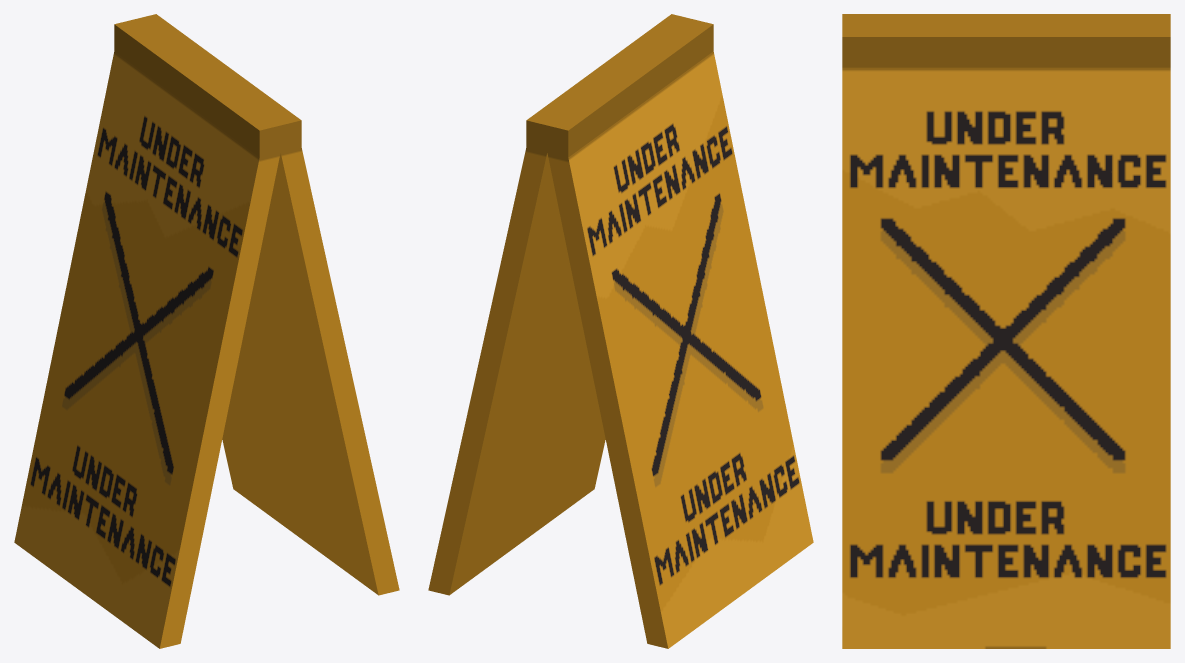
File: underCostructionSign.obj
The picture shows the model from 3 angles, left to right: view 1: azimuth 30°, elevation 25°; view 2: azimuth 150°, elevation 25°; view 3: azimuth 270°, elevation 25°; orthographic projection. The views are drawn at different scales.
Visible parts, largest first — view 1: Cube.009; view 2: Cube.009; view 3: Cube.009.
Boxes of the visible parts, box(x1,y1,x2,y2) form: Cube.009: box(14, 14, 399, 648); Cube.009: box(428, 14, 813, 648); Cube.009: box(842, 14, 1170, 648).
Size of the model in its own units: 2.38 by 4.69 by 2.5.
1 material, 1 textured.
